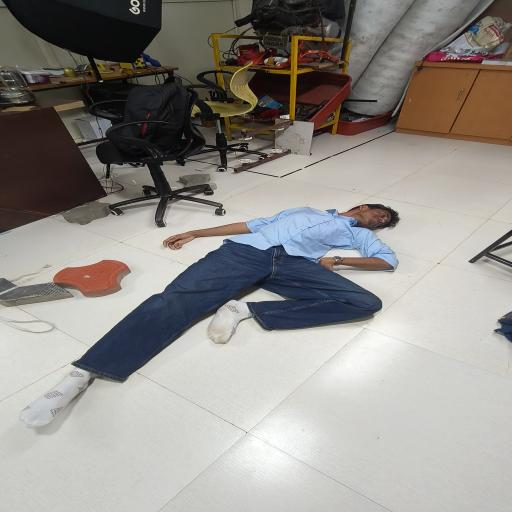survivor: (19, 203, 401, 429)
